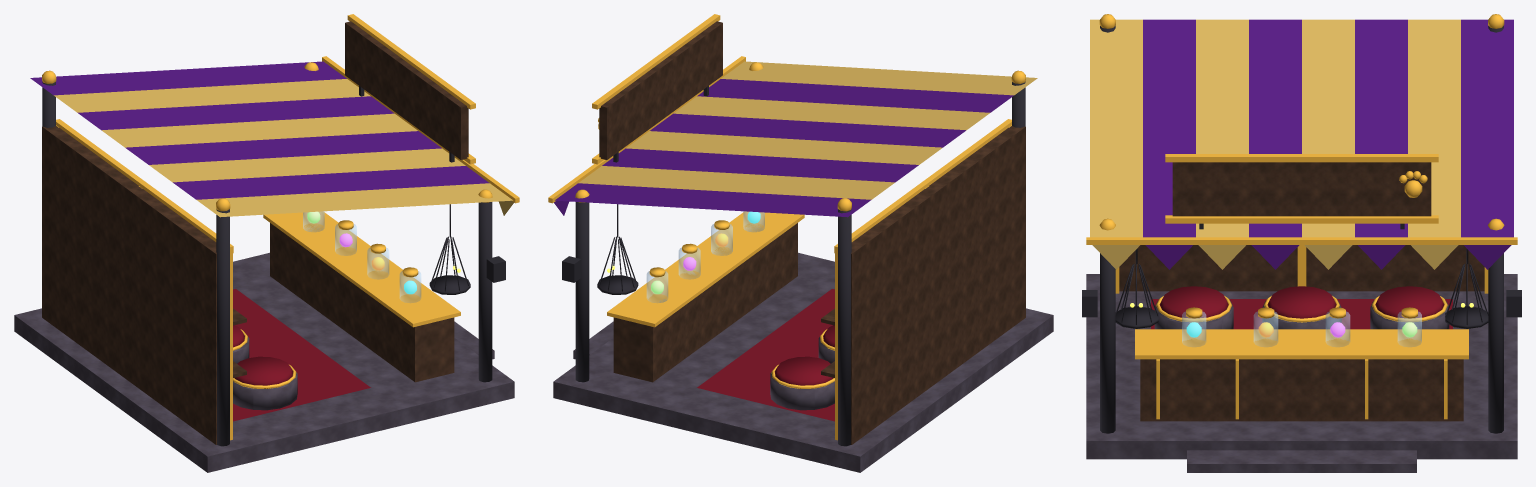
File: pet_shop.glb
3 views of the same model, side by side, from view 1: azimuth 30°, elevation 25°; view 2: azimuth 150°, elevation 25°; view 3: azimuth 270°, elevation 25° (orthographic). The views are drawn at different scales.
Parts seen in each view (by area): view 1: pet_shop_ps_wood, pet_shop_ps_stone, pet_shop_ps_cloth_b, pet_shop_ps_cloth_a, pet_shop_ps_gold, pet_shop_ps_iron, pet_shop_ps_rug, pet_shop_ps_glass; view 2: pet_shop_ps_wood, pet_shop_ps_stone, pet_shop_ps_cloth_a, pet_shop_ps_cloth_b, pet_shop_ps_gold, pet_shop_ps_iron, pet_shop_ps_rug, pet_shop_ps_glass; view 3: pet_shop_ps_wood, pet_shop_ps_cloth_a, pet_shop_ps_cloth_b, pet_shop_ps_stone, pet_shop_ps_gold, pet_shop_ps_iron, pet_shop_ps_rug, pet_shop_ps_glass.
Boxes of the visible parts, <box> form: pet_shop_ps_wood: <box>42,21,468,444</box>; pet_shop_ps_stone: <box>14,252,514,472</box>; pet_shop_ps_cloth_b: <box>54,79,513,217</box>; pet_shop_ps_cloth_a: <box>30,61,489,199</box>; pet_shop_ps_gold: <box>42,14,519,440</box>; pet_shop_ps_iron: <box>42,81,505,446</box>; pet_shop_ps_rug: <box>233,289,370,421</box>; pet_shop_ps_glass: <box>303,211,421,302</box>; pet_shop_ps_wood: <box>599,21,1025,444</box>; pet_shop_ps_stone: <box>553,252,1053,472</box>; pet_shop_ps_cloth_a: <box>554,79,1013,217</box>; pet_shop_ps_cloth_b: <box>578,61,1037,199</box>; pet_shop_ps_gold: <box>548,14,1025,440</box>; pet_shop_ps_iron: <box>562,81,1025,446</box>; pet_shop_ps_rug: <box>697,289,834,421</box>; pet_shop_ps_glass: <box>646,211,764,302</box>; pet_shop_ps_wood: <box>1119,162,1484,421</box>; pet_shop_ps_cloth_a: <box>1143,19,1513,269</box>; pet_shop_ps_cloth_b: <box>1090,19,1460,269</box>; pet_shop_ps_stone: <box>1086,274,1517,472</box>; pet_shop_ps_gold: <box>1086,14,1517,419</box>; pet_shop_ps_iron: <box>1082,26,1521,433</box>; pet_shop_ps_rug: <box>1151,286,1452,329</box>; pet_shop_ps_glass: <box>1182,311,1421,346</box>.
Size of what is drawn, in the model's own units: 5.95 by 4.61 by 6.12.
Materials: 14 (3 with a texture image).
